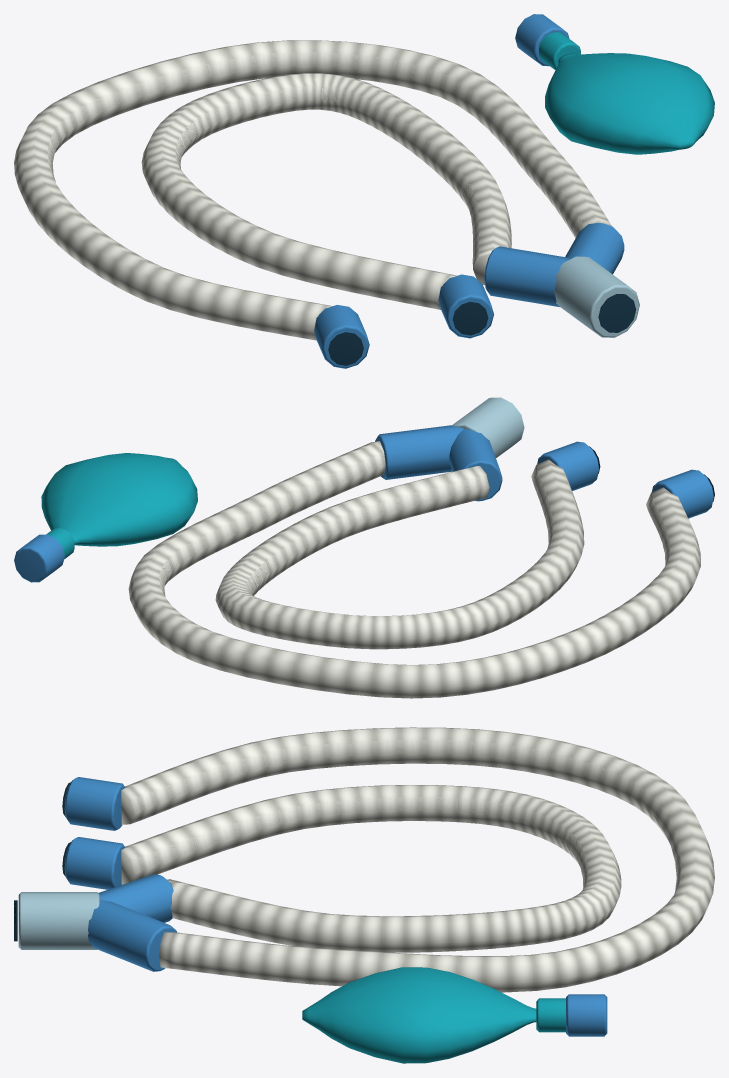
The model's file is medical-03.glb.
3 renders of one model, top to bottom at view 1: azimuth 30°, elevation 25°; view 2: azimuth 150°, elevation 25°; view 3: azimuth 270°, elevation 25°, orthographic. The views are drawn at different scales.
Parts seen in each view (by area): view 1: Corrugated_limb_1_Soft, Corrugated_limb_2_Soft, Fixed_Assembly_Plastic, Soft_reservoir_bag.001_Soft; view 2: Corrugated_limb_1_Soft, Corrugated_limb_2_Soft, Fixed_Assembly_Plastic, Soft_reservoir_bag.001_Soft; view 3: Corrugated_limb_1_Soft, Corrugated_limb_2_Soft, Fixed_Assembly_Plastic, Soft_reservoir_bag.001_Soft.
Part boxes in pixels (x1=…): Corrugated_limb_1_Soft: x1=14, y1=40, x2=611, y2=340; Corrugated_limb_2_Soft: x1=141, y1=73, x2=511, y2=309; Fixed_Assembly_Plastic: x1=314, y1=14, x2=639, y2=368; Soft_reservoir_bag.001_Soft: x1=545, y1=53, x2=714, y2=154; Corrugated_limb_1_Soft: x1=128, y1=441, x2=700, y2=698; Corrugated_limb_2_Soft: x1=215, y1=459, x2=584, y2=649; Fixed_Assembly_Plastic: x1=14, y1=397, x2=714, y2=582; Soft_reservoir_bag.001_Soft: x1=41, y1=453, x2=197, y2=546; Corrugated_limb_1_Soft: x1=121, y1=727, x2=714, y2=992; Corrugated_limb_2_Soft: x1=121, y1=785, x2=621, y2=952; Fixed_Assembly_Plastic: x1=14, y1=777, x2=607, y2=1036; Soft_reservoir_bag.001_Soft: x1=302, y1=967, x2=536, y2=1063.
Bounding box in the file's own units: 1.04 × 0.108 × 0.9884.
2 materials, 2 textured.
